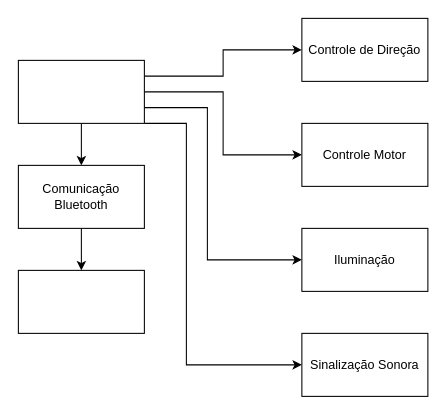
Some shapes in this 446 by 415 pixel diagram are drawn without their labels. The shapes that lost their labels are listed below. From the top down, each one's box as (x1, y1, x2, y2) in pixels, then its label:
(17, 59, 144, 123): Controle Central
(17, 269, 144, 333): Exibição de Status
